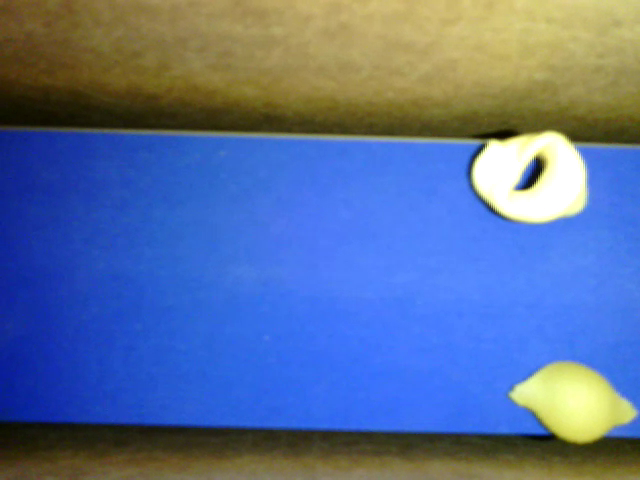shell: (507, 361, 636, 441)
tortellini: (470, 129, 588, 222)
